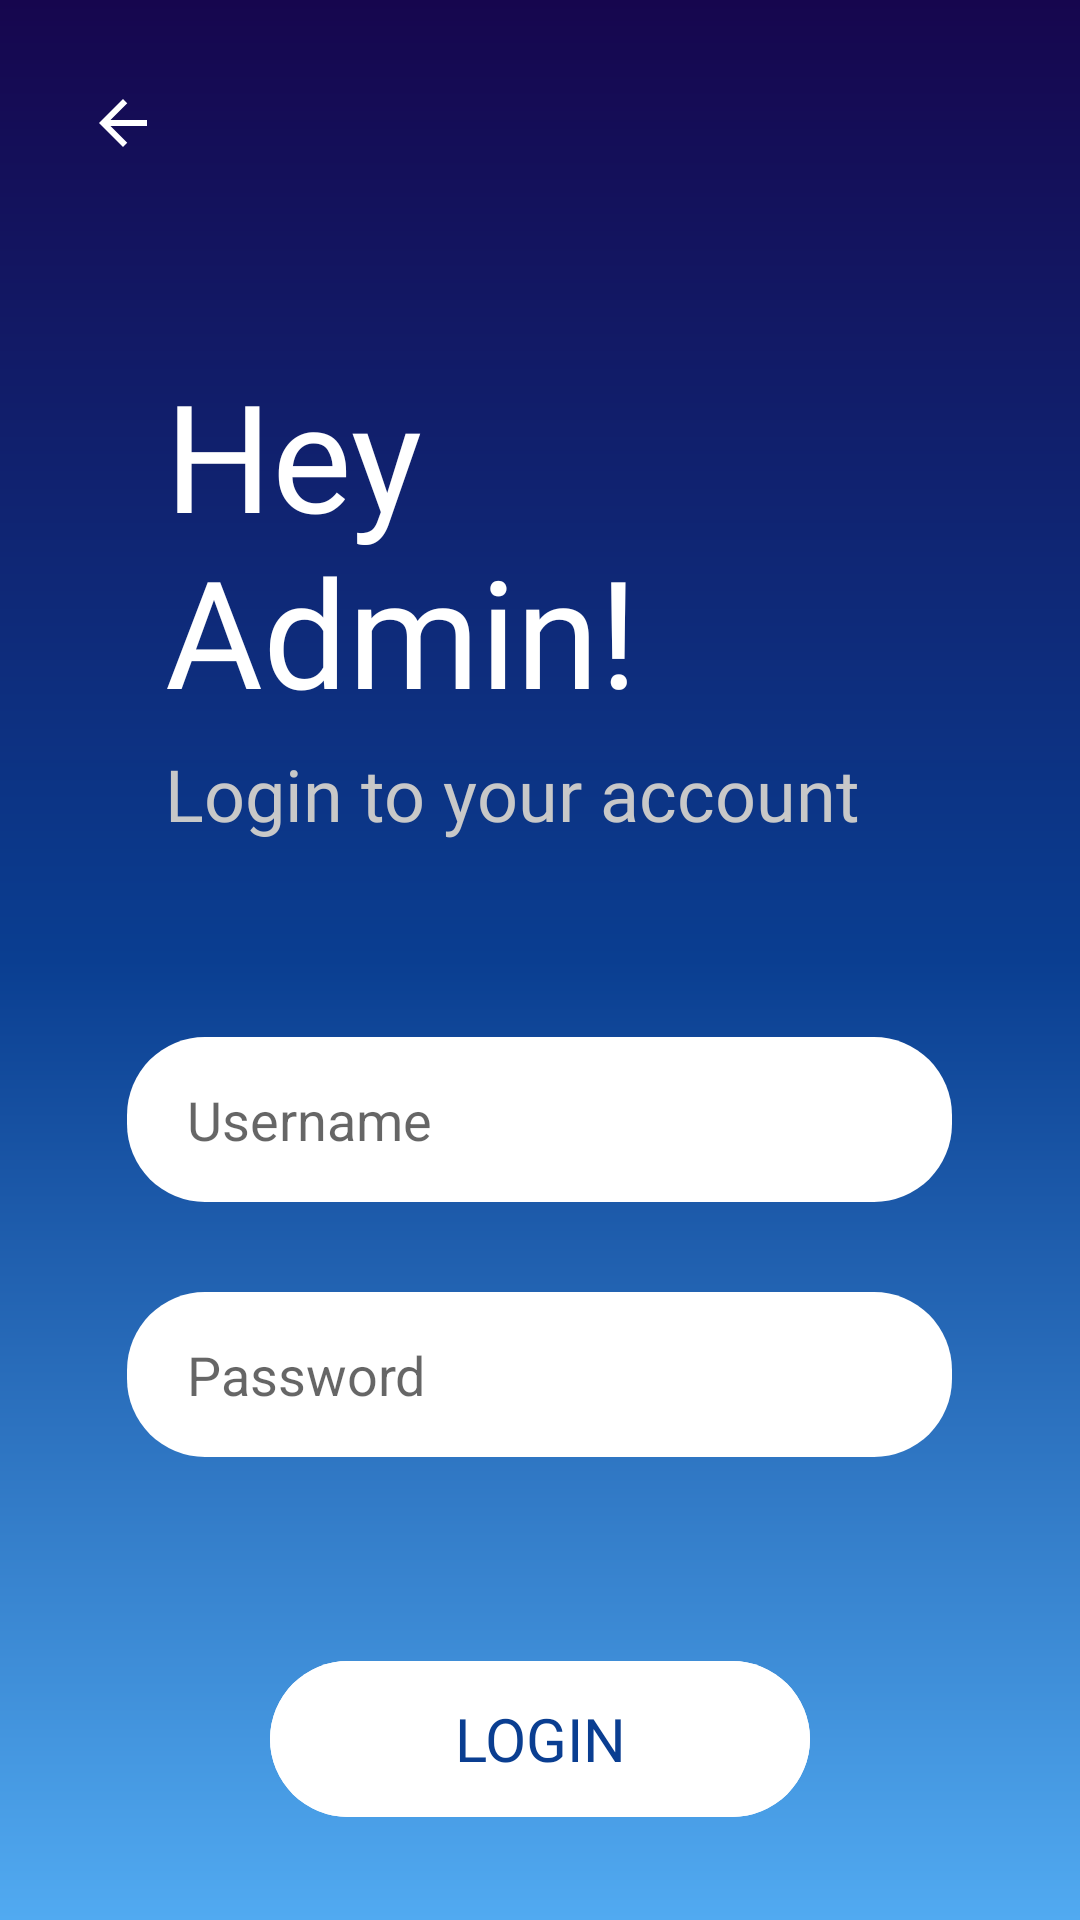

Icon bounding boxes for this 1080×1920 phone screenshot, format (x1, y1, x2, y2):
arrow back: (99, 99, 147, 147)
